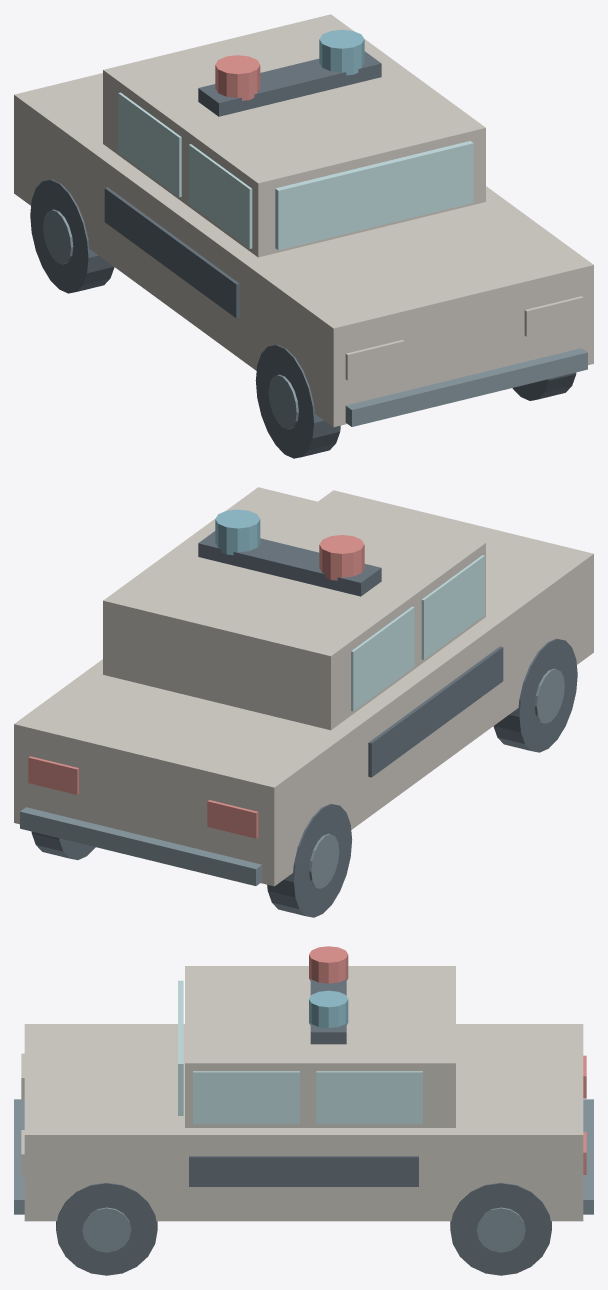
File: police_car.glb
The picture shows the model from 3 angles, top to bottom: view 1: azimuth 30°, elevation 25°; view 2: azimuth 150°, elevation 25°; view 3: azimuth 270°, elevation 25°; orthographic projection. The views are drawn at different scales.
Parts seen in each view (by area): view 1: police_car_000, police_car_009, police_car_010, police_car_021, police_car_026, police_car_001, police_car_003, police_car_023, police_car_011, police_car_012, police_car_025, police_car_024 (+5 smaller); view 2: police_car_000, police_car_009, police_car_022, police_car_026, police_car_003, police_car_001, police_car_023, police_car_012, police_car_011, police_car_025, police_car_024, police_car_018 (+4 smaller); view 3: police_car_000, police_car_009, police_car_027, police_car_014, police_car_015, police_car_005, police_car_007, police_car_006, police_car_008, police_car_024, police_car_025, police_car_022 (+3 smaller).
Part boxes in pixels (left/top/right/bottom): police_car_000: left=14, top=73, right=593, bottom=427; police_car_009: left=103, top=14, right=485, bottom=257; police_car_010: left=275, top=141, right=473, bottom=250; police_car_021: left=345, top=348, right=587, bottom=426; police_car_026: left=104, top=187, right=239, bottom=318; police_car_001: left=255, top=344, right=340, bottom=458; police_car_003: left=30, top=179, right=114, bottom=293; police_car_023: left=198, top=51, right=381, bottom=116; police_car_011: left=188, top=144, right=252, bottom=248; police_car_012: left=118, top=92, right=181, bottom=197; police_car_025: left=319, top=29, right=364, bottom=75; police_car_024: left=215, top=55, right=260, bottom=100; police_car_000: left=14, top=490, right=593, bottom=886; police_car_009: left=103, top=487, right=485, bottom=730; police_car_022: left=20, top=807, right=262, bottom=885; police_car_026: left=368, top=646, right=503, bottom=777; police_car_003: left=267, top=804, right=352, bottom=917; police_car_001: left=493, top=638, right=577, bottom=752; police_car_023: left=198, top=531, right=381, bottom=596; police_car_012: left=351, top=606, right=414, bottom=711; police_car_011: left=421, top=555, right=484, bottom=659; police_car_025: left=215, top=509, right=260, bottom=555; police_car_024: left=319, top=535, right=364, bottom=580; police_car_018: left=207, top=800, right=258, bottom=838; police_car_000: left=24, top=1024, right=583, bottom=1221; police_car_009: left=185, top=966, right=455, bottom=1127; police_car_027: left=189, top=1156, right=418, bottom=1186; police_car_014: left=193, top=1071, right=299, bottom=1124; police_car_015: left=316, top=1071, right=422, bottom=1124; police_car_005: left=56, top=1182, right=157, bottom=1275; police_car_007: left=450, top=1182, right=551, bottom=1275; police_car_006: left=82, top=1207, right=131, bottom=1252; police_car_008: left=476, top=1207, right=525, bottom=1252; police_car_024: left=309, top=946, right=348, bottom=983; police_car_025: left=309, top=990, right=348, bottom=1028; police_car_022: left=583, top=1099, right=593, bottom=1214.
Size of the model in its own units: 1.65 by 1.63 by 3.53.
